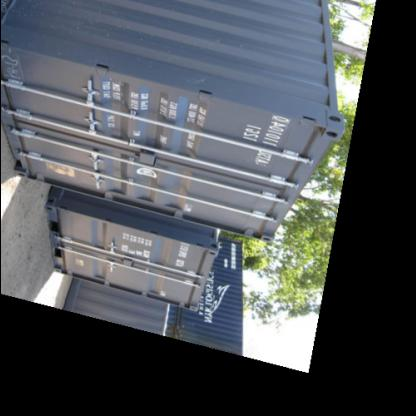Damage: (1, 42, 23, 88), (180, 68, 217, 88)
